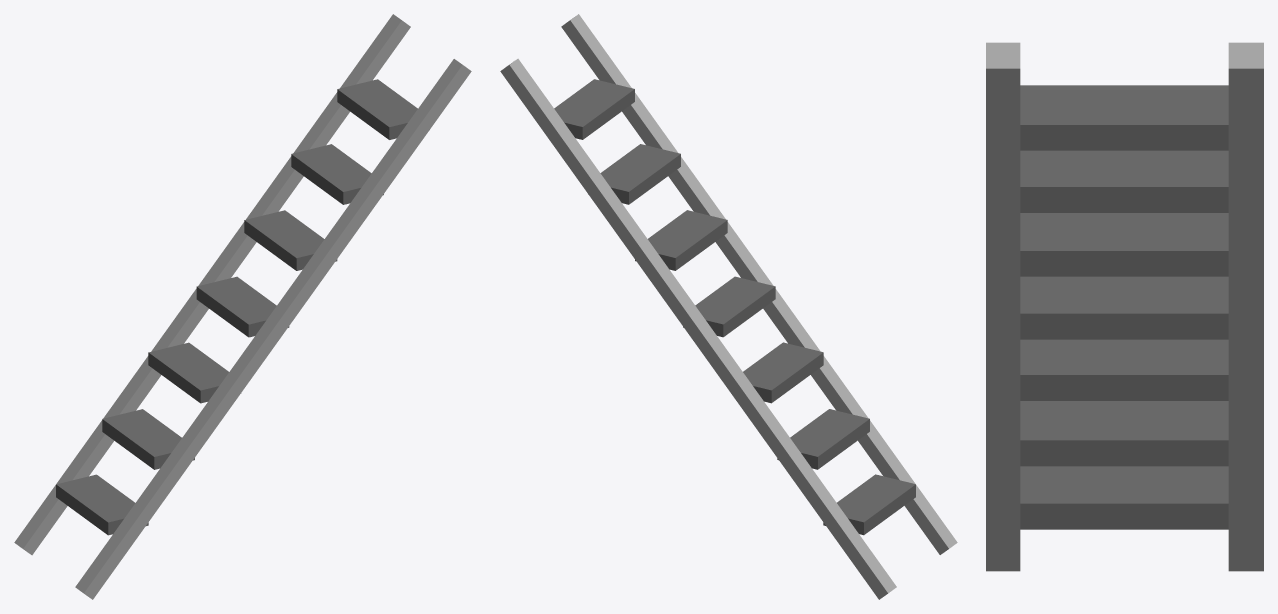
File: ScaffOlding_Stair.fbx
3 renders of one model, left to right at view 1: azimuth 30°, elevation 25°; view 2: azimuth 150°, elevation 25°; view 3: azimuth 270°, elevation 25°, orthographic. The views are drawn at different scales.
Parts seen in each view (by area): view 1: Cube.004; view 2: Cube.004; view 3: Cube.004.
Boxes of the visible parts, x1=… form: Cube.004: x1=14, y1=14, x2=471, y2=599; Cube.004: x1=500, y1=14, x2=957, y2=599; Cube.004: x1=986, y1=42, x2=1263, y2=571.
Bounding box in the file's own units: 314 × 344 × 97.5.
